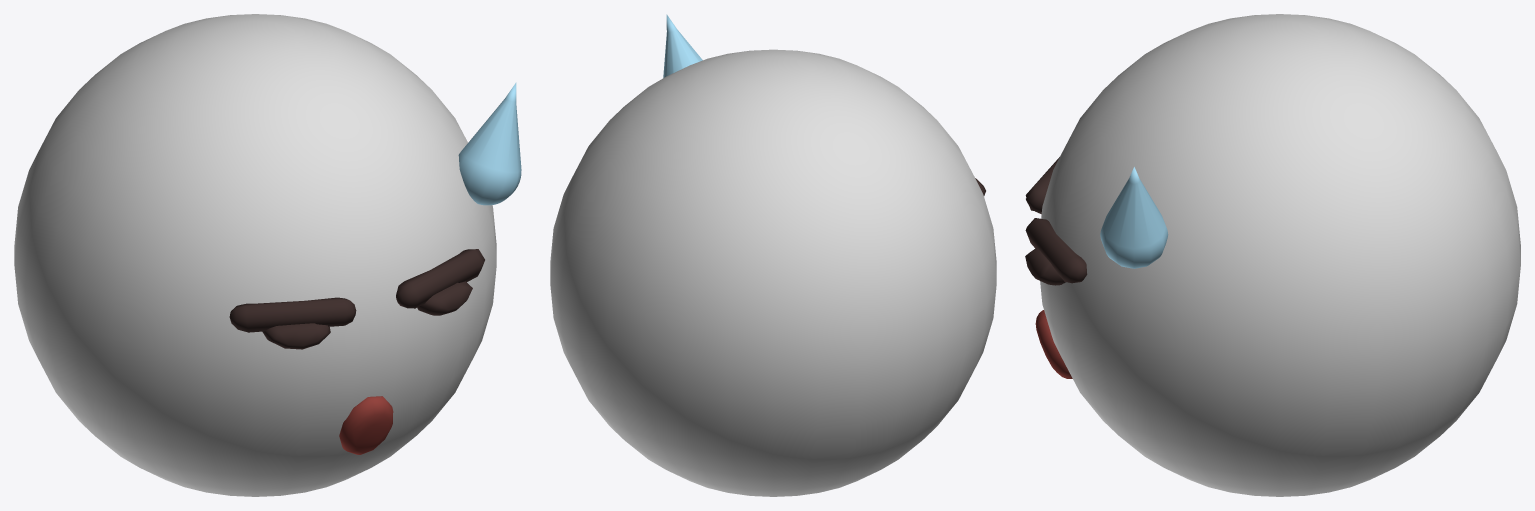
File: face_sleepy.glb
The picture shows the model from 3 angles, left to right: view 1: azimuth 30°, elevation 25°; view 2: azimuth 150°, elevation 25°; view 3: azimuth 270°, elevation 25°; orthographic projection. The views are drawn at different scales.
Visible parts, largest first — view 1: face_sleepy; view 2: face_sleepy; view 3: face_sleepy.
Boxes of the visible parts, <box> form: face_sleepy: <box>14,14,521,496</box>; face_sleepy: <box>550,14,996,496</box>; face_sleepy: <box>1025,14,1520,496</box>.
Size of the model in its own units: 1 by 1 by 1.02.
